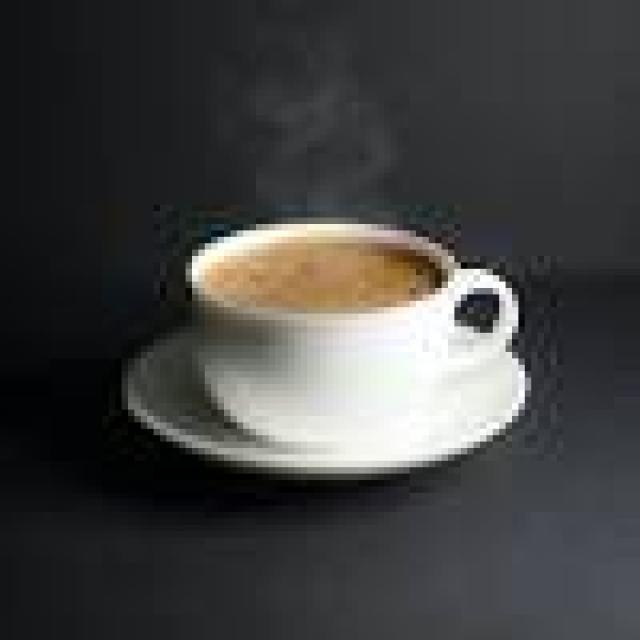taza: (167, 194, 518, 466)
